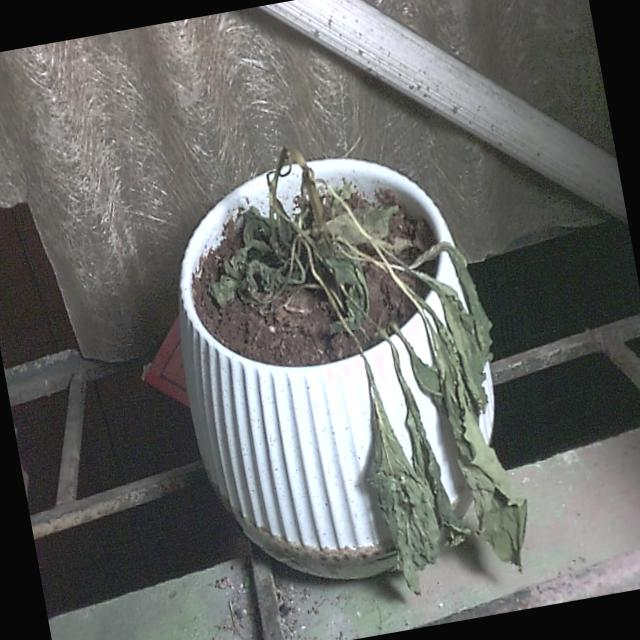Leaf: (416, 288, 540, 585), (346, 355, 447, 597), (436, 278, 499, 417), (444, 238, 496, 366)
